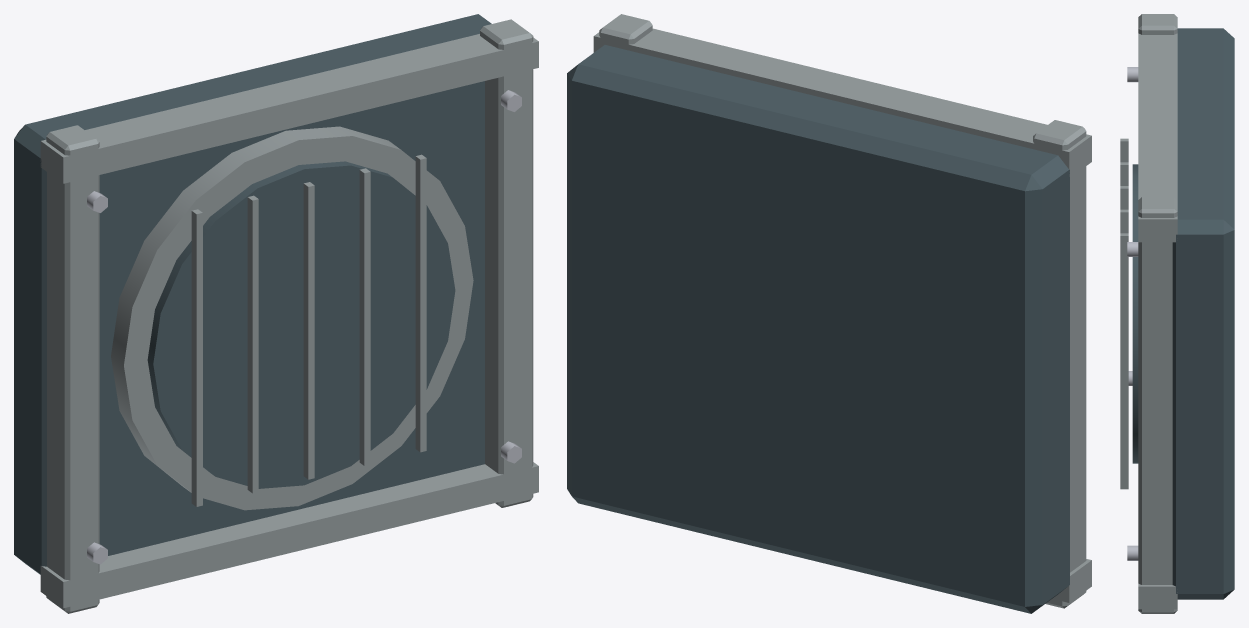
Rendered from cradle_extractor.glb.
The picture shows the model from 3 angles, left to right: view 1: azimuth 30°, elevation 25°; view 2: azimuth 150°, elevation 25°; view 3: azimuth 270°, elevation 25°; orthographic projection. The views are drawn at different scales.
Parts seen in each view (by area): view 1: deepsteel, deepsteel.001, steel.004, steel, steel.003, steel.001, steel.002, steel.006, steel.007, steel.009, steel.005, steel.008; view 2: deepsteel, steel.003, steel, steel.001, steel.002; view 3: deepsteel, steel.001, steel.003, steel.009, deepsteel.001, steel.002, steel, steel.005, steel.008, steel.006, steel.007, silver.001 (+2 smaller).
Boxes of the visible parts, x1=… form: deepsteel: x1=14, y1=14, x2=491, y2=574; deepsteel.001: x1=147, y1=161, x2=455, y2=488; steel.004: x1=111, y1=126, x2=473, y2=510; steel: x1=46, y1=125, x2=99, y2=613; steel.003: x1=40, y1=34, x2=538, y2=183; steel.001: x1=480, y1=19, x2=533, y2=507; steel.002: x1=40, y1=462, x2=538, y2=608; steel.006: x1=247, y1=195, x2=258, y2=493; steel.007: x1=303, y1=182, x2=314, y2=479; steel.009: x1=415, y1=154, x2=426, y2=452; steel.005: x1=191, y1=209, x2=202, y2=506; steel.008: x1=359, y1=168, x2=370, y2=465; deepsteel: x1=567, y1=45, x2=1069, y2=613; steel.003: x1=593, y1=28, x2=1091, y2=177; steel: x1=1033, y1=120, x2=1086, y2=608; steel.001: x1=599, y1=14, x2=652, y2=50; steel.002: x1=1052, y1=559, x2=1091, y2=602; deepsteel: x1=1172, y1=28, x2=1234, y2=599; steel.001: x1=1138, y1=197, x2=1177, y2=613; steel.003: x1=1138, y1=33, x2=1177, y2=242; steel.009: x1=1120, y1=233, x2=1128, y2=489; deepsteel.001: x1=1132, y1=164, x2=1138, y2=463; steel.002: x1=1138, y1=583, x2=1177, y2=609; steel: x1=1138, y1=14, x2=1177, y2=34; steel.005: x1=1120, y1=138, x2=1128, y2=162; steel.008: x1=1120, y1=209, x2=1128, y2=233; steel.006: x1=1120, y1=162, x2=1128, y2=185; steel.007: x1=1120, y1=186, x2=1128, y2=209; silver.001: x1=1127, y1=67, x2=1138, y2=82.
Bounding box in the file's own units: 3.4 × 3.2 × 0.82.
